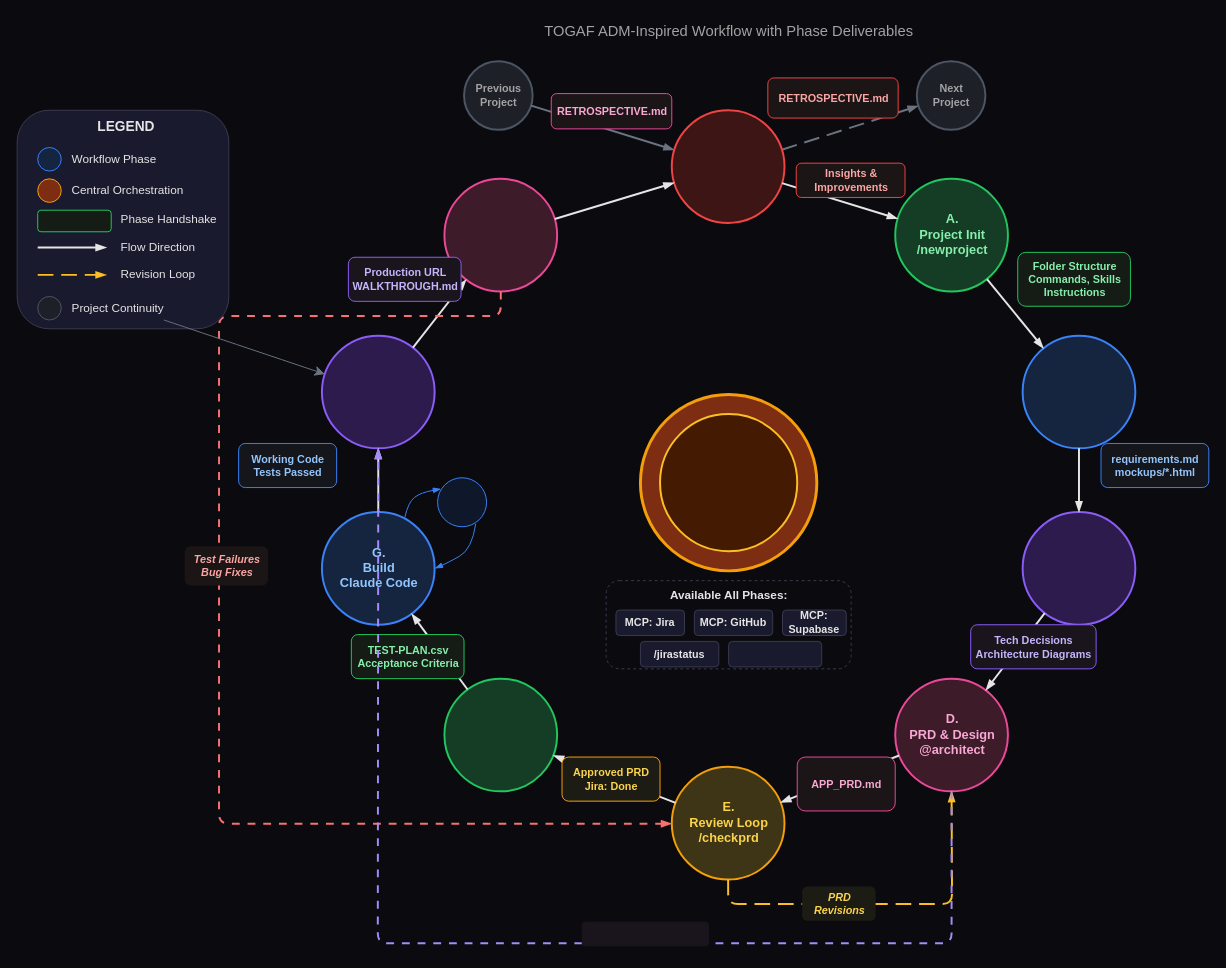
Some shapes in this 1226 by 968 pixel diagram are drawn without their labels. Here are the shapes that lost their labels. From the top down, the centre of each, then its label:
At point 727,166: "Prelim Retrospective".
At point 74,220: "Deliverable".
At point 500,234: "I. Manual Test Verify & QA".
At point 377,391: "H. Deploy /deploy".
At point 1078,391: "B. Requirements @designer".
At point 462,502: "Unit Tests".
At point 728,482: "Claude Code Orchestration".
At point 1078,568: "C. Architecture @architect".
At point 775,653: "/project status".
At point 500,734: "F. Test Planning @qa".
At point 645,933: "Deploy references PRD".
